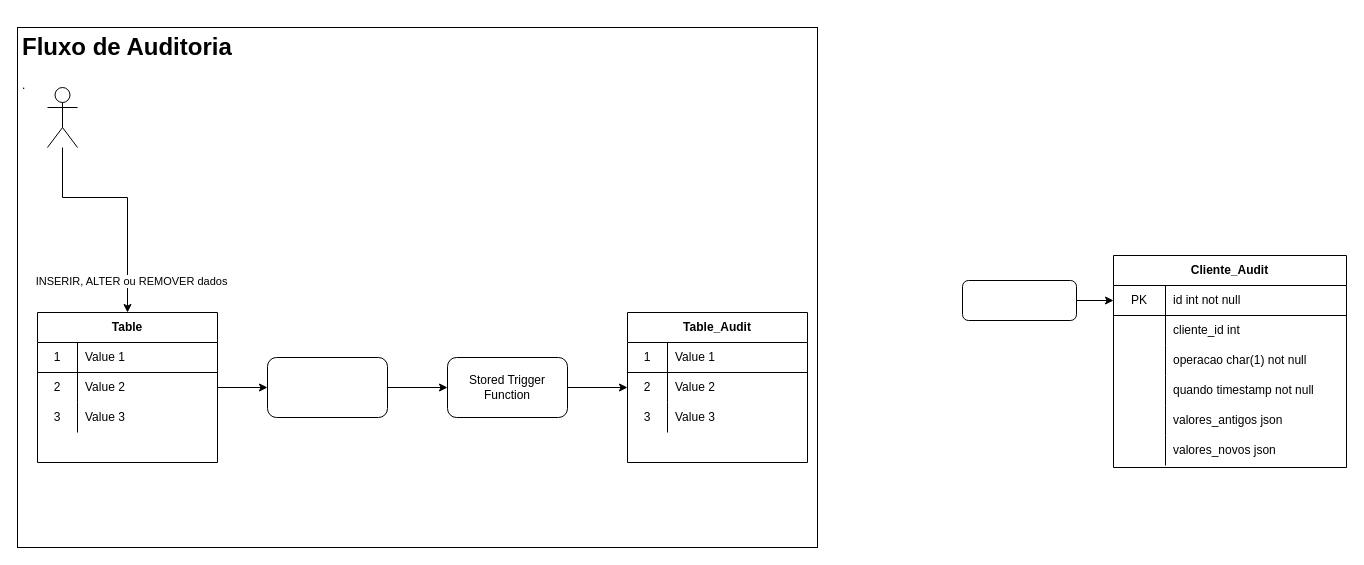
Image size: 1364x565. Some labels were removed from this diagram. Each missing label, with the centre of its shape:
"Marcio" belongs at point 62,117.
"seq_cliente_audit" belongs at point 1019,300.
"Trigger" belongs at point 327,387.
